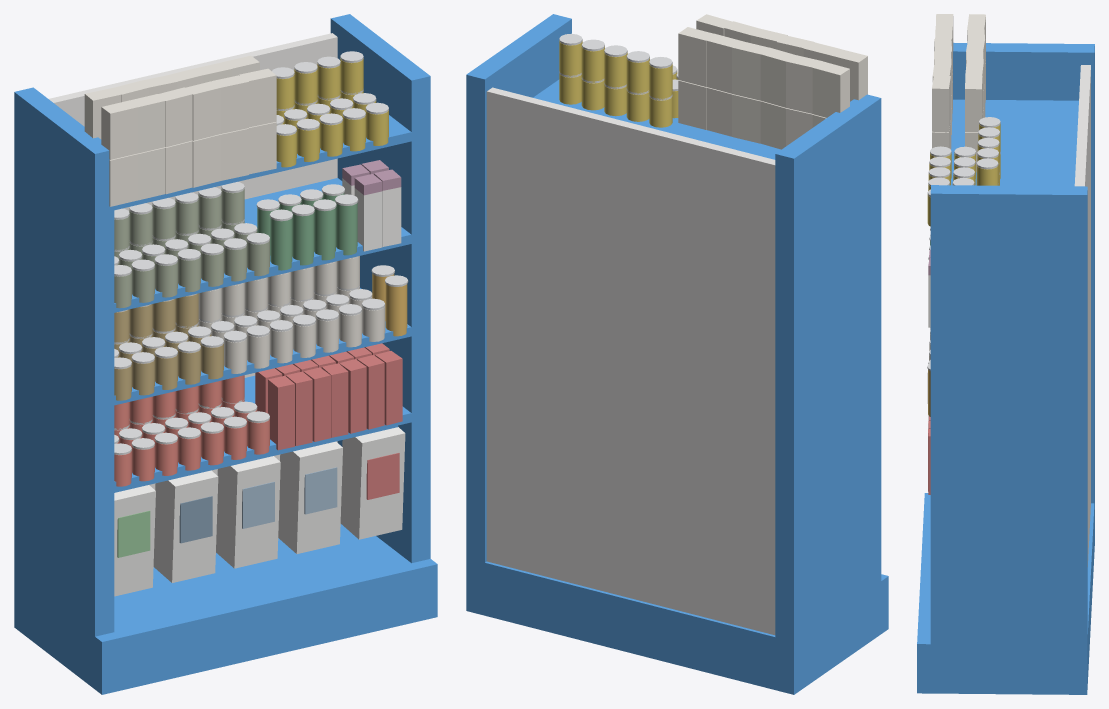
File: minimarket_rack_singleside_stocked_green.glb
3 views of the same model, side by side, from view 1: azimuth 30°, elevation 25°; view 2: azimuth 150°, elevation 25°; view 3: azimuth 270°, elevation 25° (orthographic). The views are drawn at different scales.
Parts seen in each view (by area): view 1: Goods, upright_L, plinth, upright_R, back_panel, flour_sack_4, flour_sack_1, flour_sack_3, flour_sack_2, shelf_2, flour_sack_0, shelf_1 (+2 smaller); view 2: back_panel, upright_L, Goods, plinth, upright_R, shelf_3; view 3: upright_R, plinth, Goods, upright_L, shelf_3, back_panel.
Part boxes in pixels (bbox=[...]): Goods: bbox=[84, 51, 408, 557]; upright_L: bbox=[14, 87, 114, 689]; plinth: bbox=[14, 524, 437, 694]; upright_R: bbox=[330, 14, 430, 563]; back_panel: bbox=[49, 33, 337, 489]; flour_sack_4: bbox=[340, 427, 405, 539]; flour_sack_1: bbox=[153, 470, 218, 582]; flour_sack_3: bbox=[278, 441, 342, 553]; flour_sack_2: bbox=[216, 456, 280, 568]; shelf_2: bbox=[111, 178, 414, 313]; flour_sack_0: bbox=[114, 485, 155, 596]; shelf_1: bbox=[111, 288, 414, 405]; back_panel: bbox=[486, 87, 775, 635]; upright_L: bbox=[775, 94, 881, 694]; Goods: bbox=[559, 14, 867, 149]; plinth: bbox=[466, 558, 888, 689]; upright_R: bbox=[466, 14, 571, 602]; shelf_3: bbox=[533, 79, 780, 159]; upright_R: bbox=[930, 185, 1087, 694]; plinth: bbox=[917, 493, 1094, 694]; Goods: bbox=[927, 14, 1000, 494]; upright_L: bbox=[953, 42, 1094, 503]; shelf_3: bbox=[951, 99, 1078, 186]; back_panel: bbox=[1074, 65, 1090, 566].
Size of the model in its own units: 1.06 by 1.73 by 0.5224.
